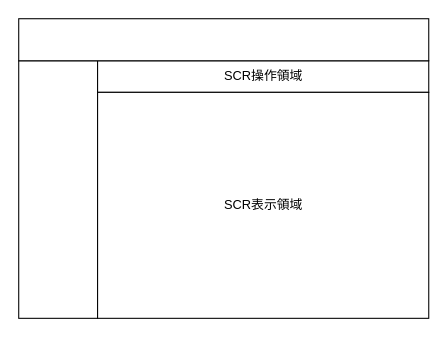
The diagram is 448 pixels wide and 337 high, and some of its shapes have lost their labels. Each missing label, with the centre of its shape:
"CMN-001:共通ヘッダー" belongs at [223,39].
"CMN-002 共通メニュー CMN-003～ CMN-006 管理メニュー" belongs at [58,189].
